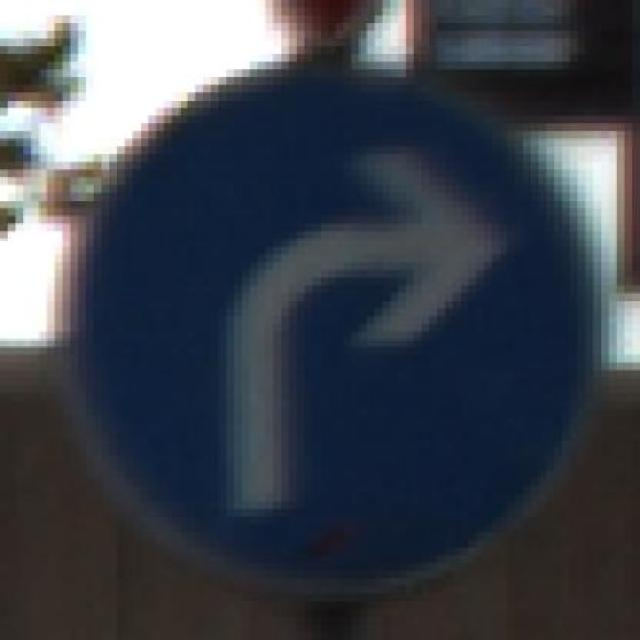Turn right ahead: (31, 46, 624, 602)
